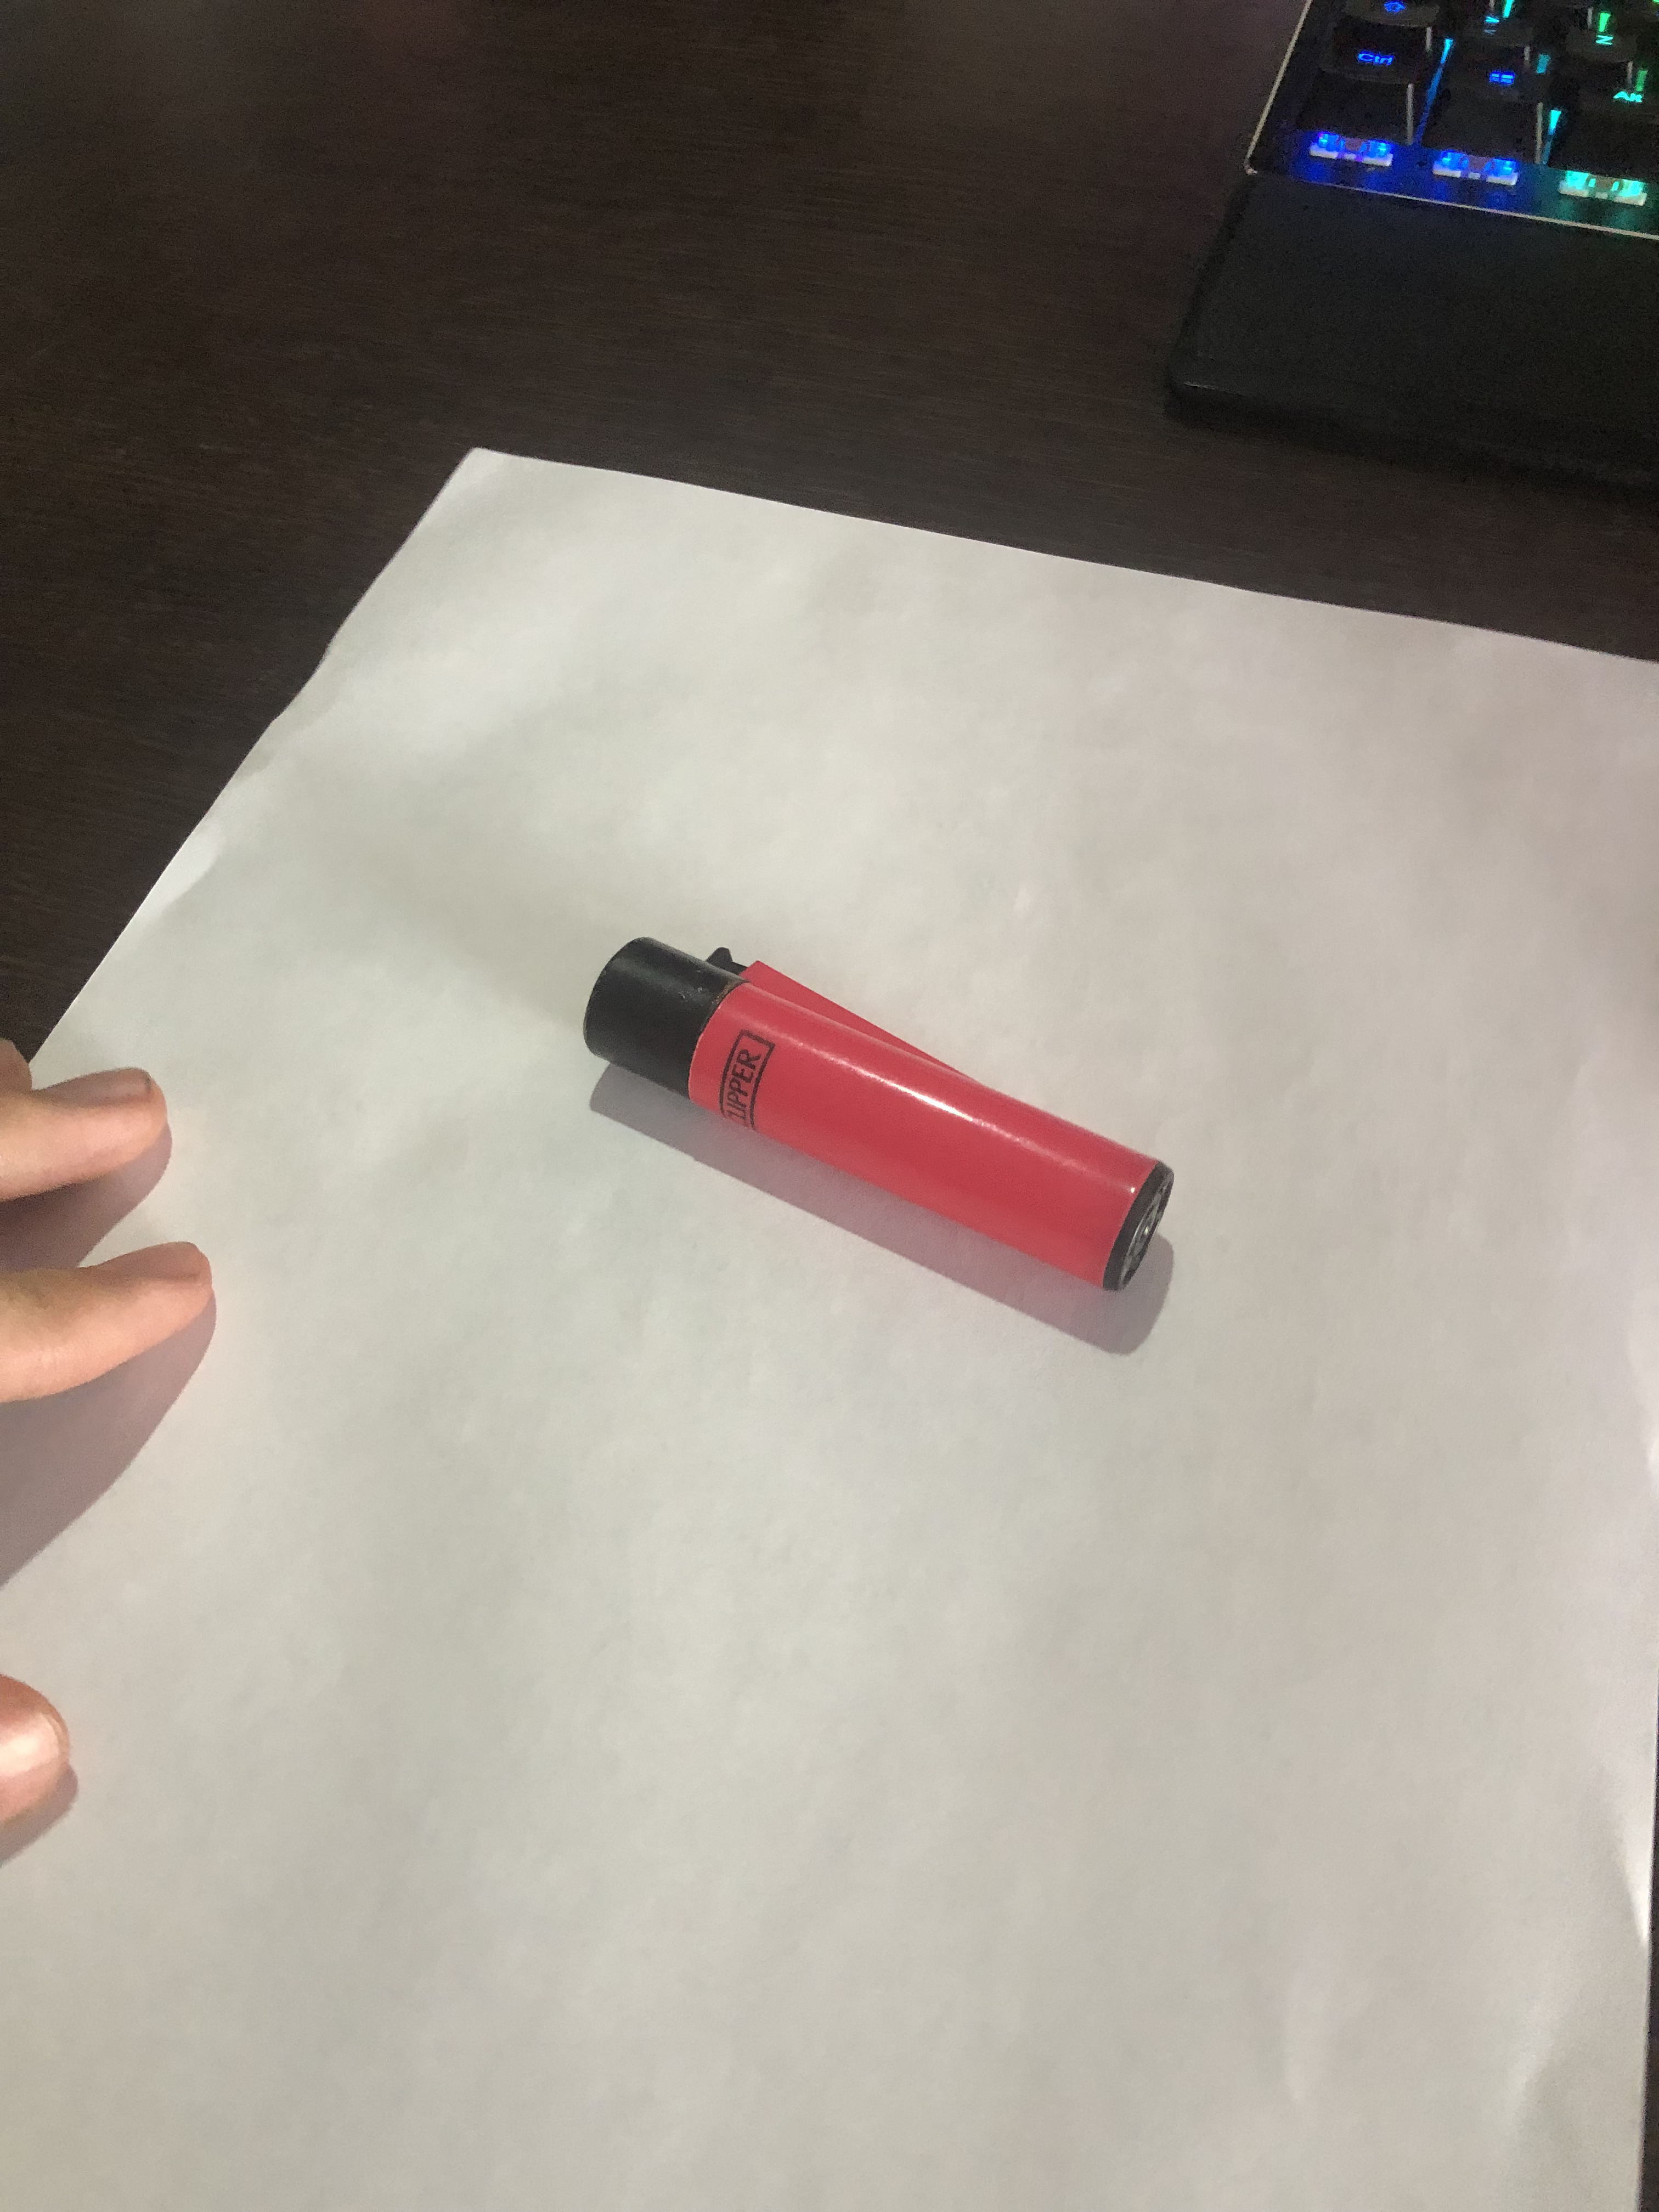Mechero: (516, 916, 1230, 1346)
